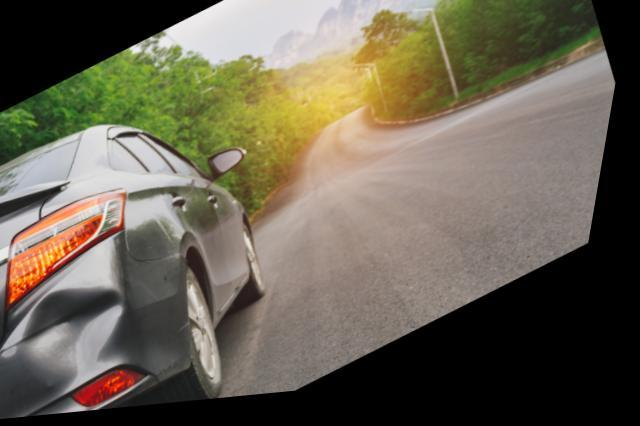dent: (35, 289, 135, 379)
